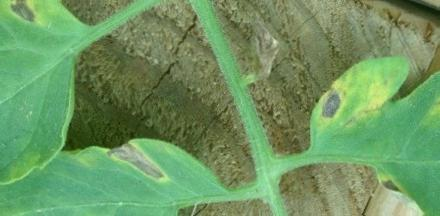Tomato leaf bacterial spot: (298, 48, 440, 215), (0, 121, 233, 216)
